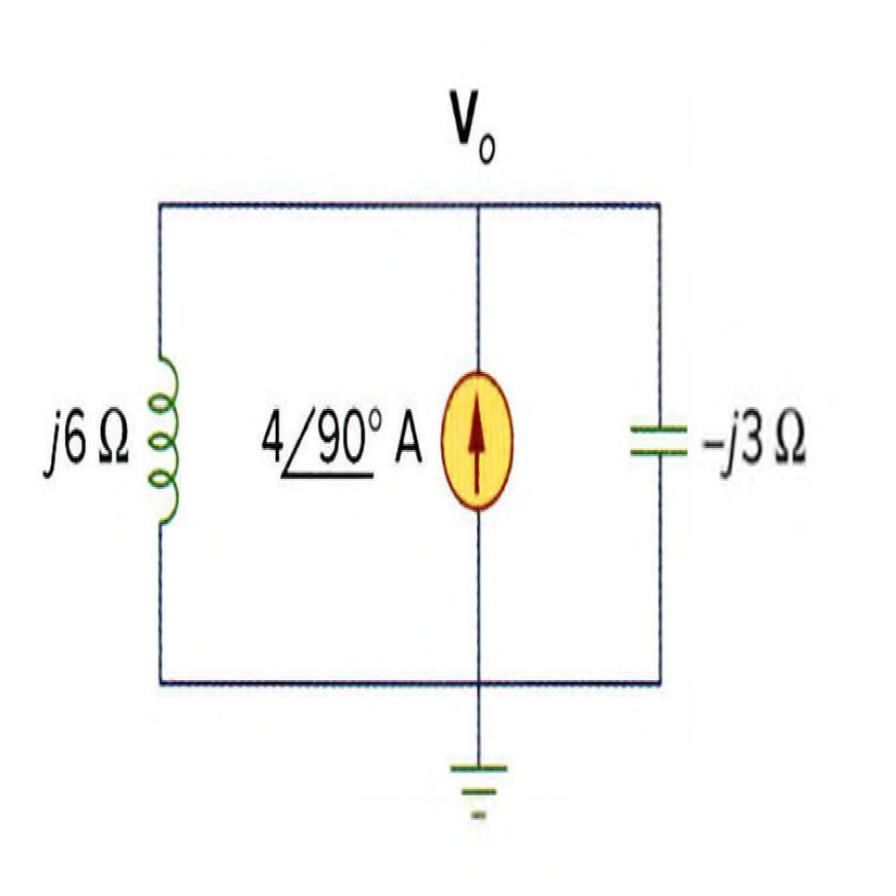C2: (622, 395, 691, 485)
I1: (440, 372, 512, 514)
L2: (138, 325, 190, 556)
